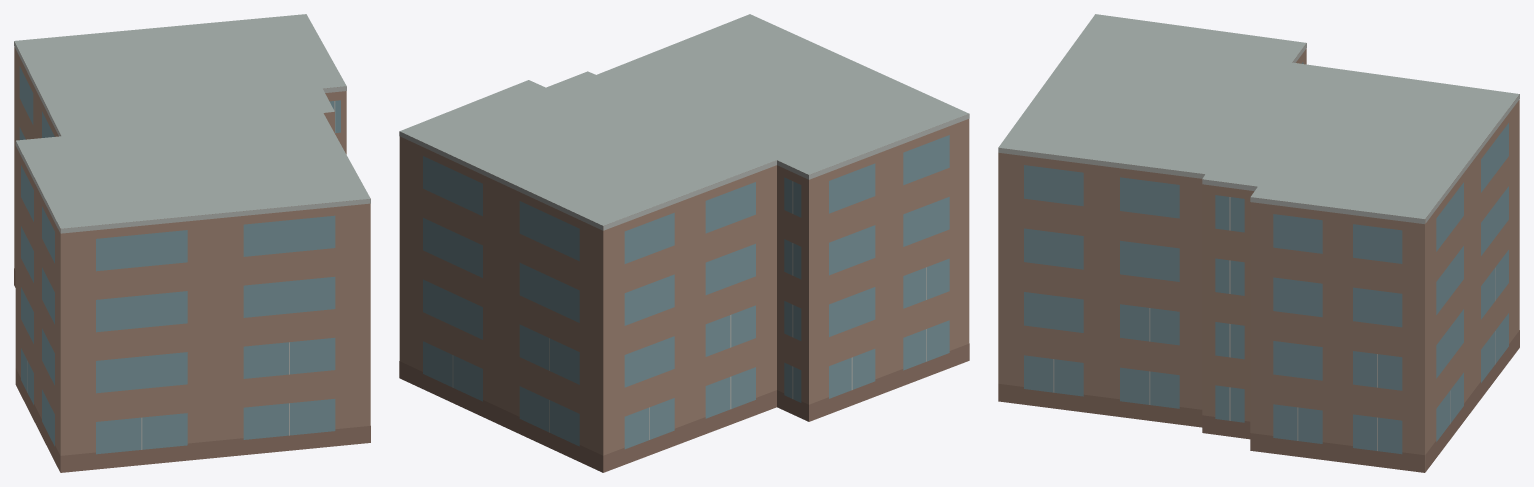
The model's file is survey-upis-32877716.glb.
3 renders of one model, left to right at view 1: azimuth 30°, elevation 25°; view 2: azimuth 150°, elevation 25°; view 3: azimuth 270°, elevation 25°, orthographic. The views are drawn at different scales.
Parts seen in each view (by area): view 1: survey-upis-32877716.tmp; view 2: survey-upis-32877716.tmp; view 3: survey-upis-32877716.tmp.
Boxes of the visible parts, x1,y1,x2,y2 form: survey-upis-32877716.tmp: (14, 14, 370, 472); survey-upis-32877716.tmp: (399, 14, 969, 472); survey-upis-32877716.tmp: (998, 14, 1519, 472).
Bounding box in the file's own units: 21.35 × 12.3 × 22.93.
